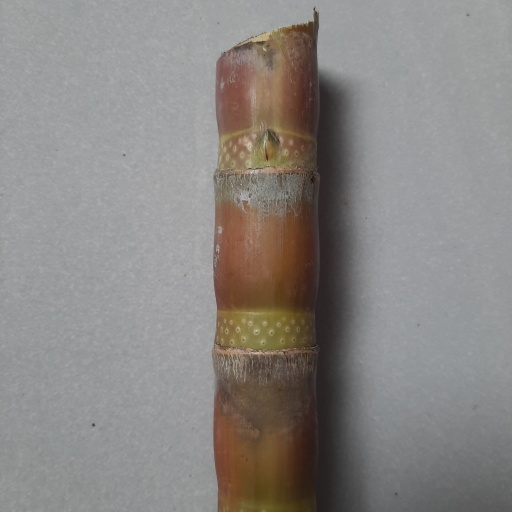Bud: (254, 128, 281, 165)
